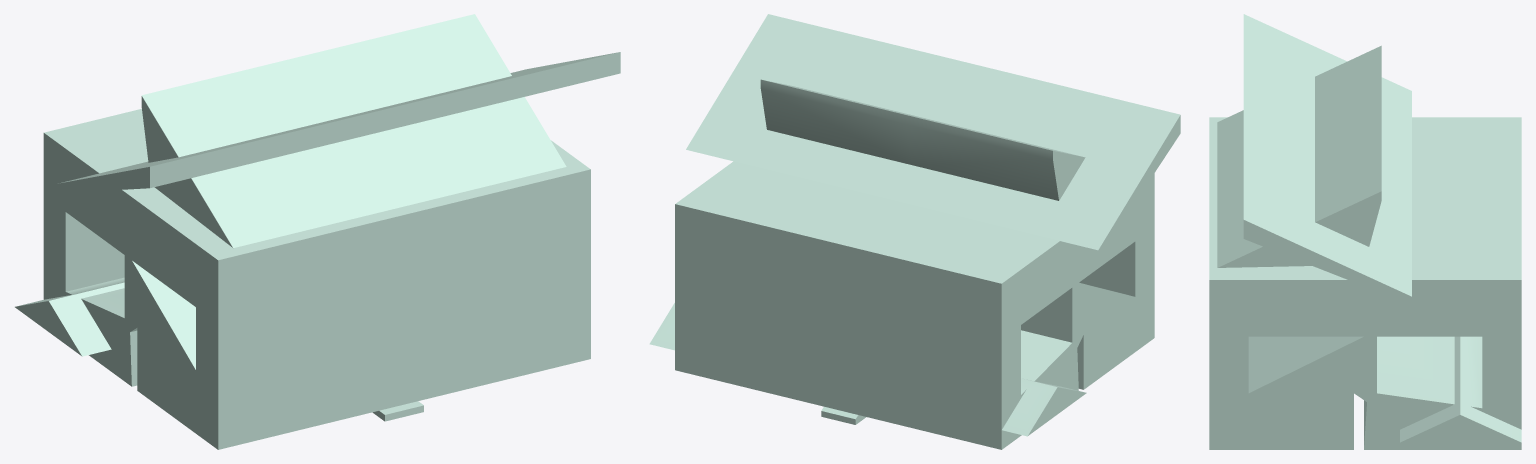
The picture shows the model from 3 angles, left to right: view 1: azimuth 30°, elevation 25°; view 2: azimuth 150°, elevation 25°; view 3: azimuth 270°, elevation 25°; orthographic projection. The views are drawn at different scales.
Visible parts, largest first — view 1: Renderer Node; view 2: Renderer Node; view 3: Renderer Node.
Boxes of the visible parts, x1,y1,x2,y2 form: Renderer Node: [15, 14, 620, 449]; Renderer Node: [649, 14, 1180, 449]; Renderer Node: [1209, 14, 1521, 449].
Size of the model in its own units: 1.88 by 1.12 by 1.2.
